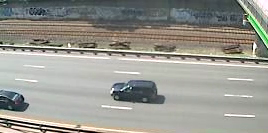car: (108, 78, 161, 105), (1, 88, 29, 112)
